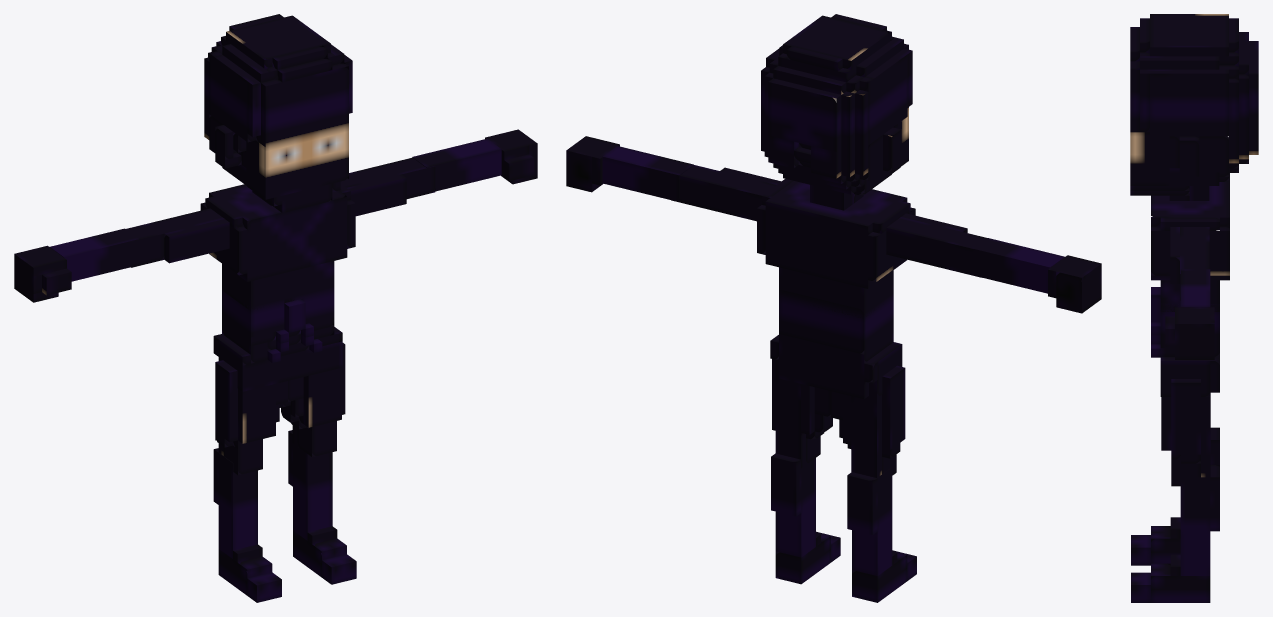
Rendered from Ninja_Tpose.obj.
3 renders of one model, left to right at view 1: azimuth 30°, elevation 25°; view 2: azimuth 150°, elevation 25°; view 3: azimuth 270°, elevation 25°, orthographic. The views are drawn at different scales.
Visible parts, largest first — view 1: Model; view 2: Model; view 3: Model.
Part boxes in pixels (x1,y1,x2,y2): Model: [14, 14, 537, 602]; Model: [566, 14, 1101, 602]; Model: [1130, 14, 1258, 602].
Bounding box in the file's own units: 60.5 × 61.05 × 13.
1 material, 1 textured.
